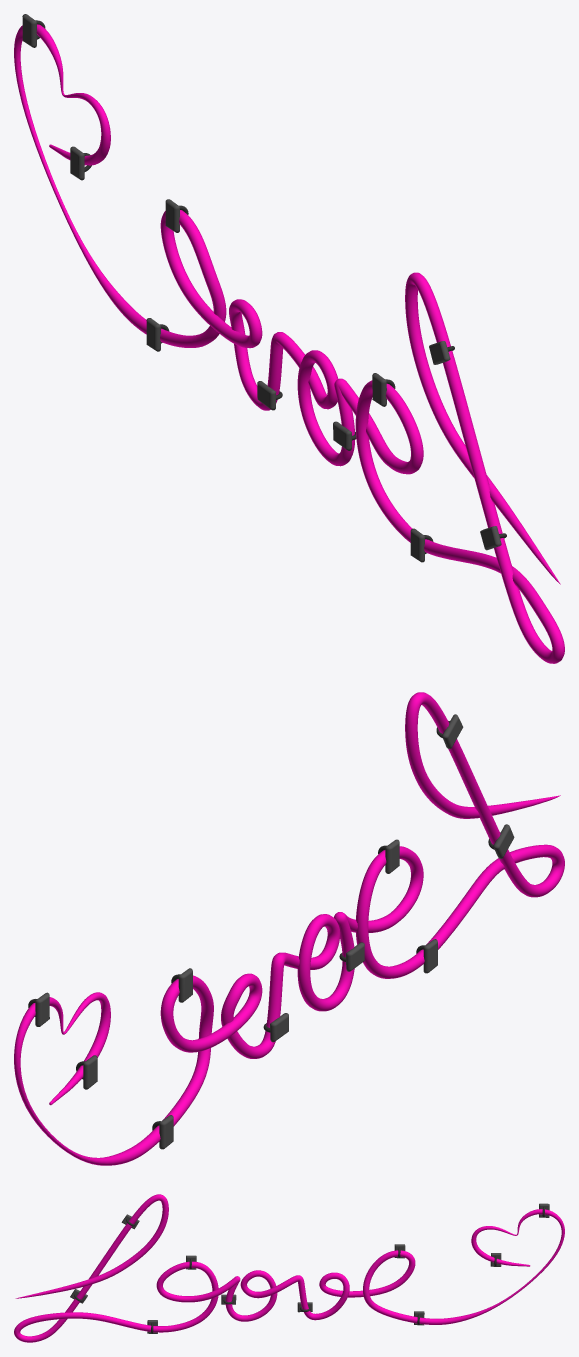
File: loveneon2.fbx
3 renders of one model, top to bottom at view 1: azimuth 30°, elevation 25°; view 2: azimuth 150°, elevation 25°; view 3: azimuth 270°, elevation 25°, orthographic. The views are drawn at different scales.
Parts seen in each view (by area): view 1: s.0009; view 2: s.0009; view 3: s.0009.
Part boxes in pixels (box(x1,y1,x2,y2)): s.0009: box(14, 24, 564, 663); s.0009: box(14, 692, 564, 1165); s.0009: box(14, 1194, 564, 1342).
Bounding box in the file's own units: 2.71 × 114 × 33.82.
